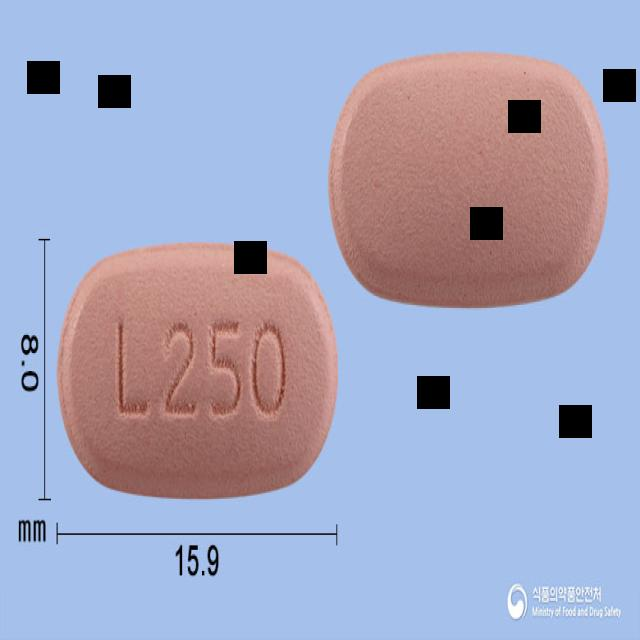Levoby - 500mg: (328, 49, 610, 306), (58, 239, 338, 497)
